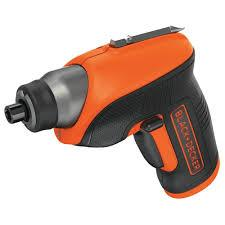screwdriver: (1, 22, 220, 199)
